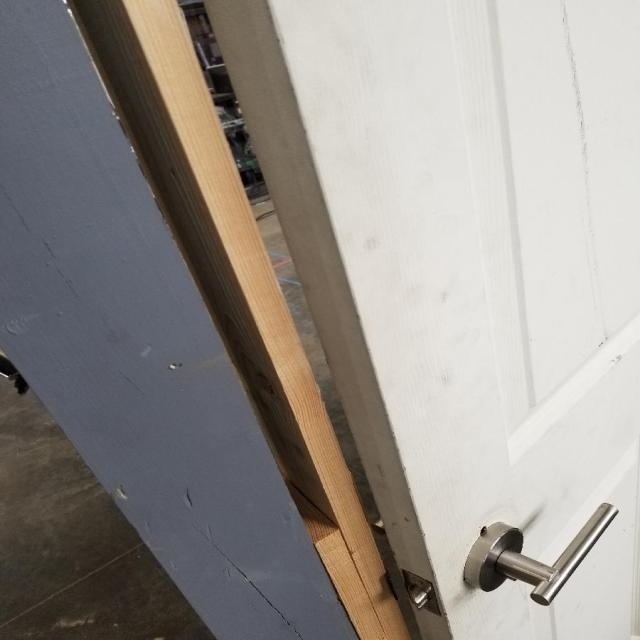door: (456, 498, 620, 606)
